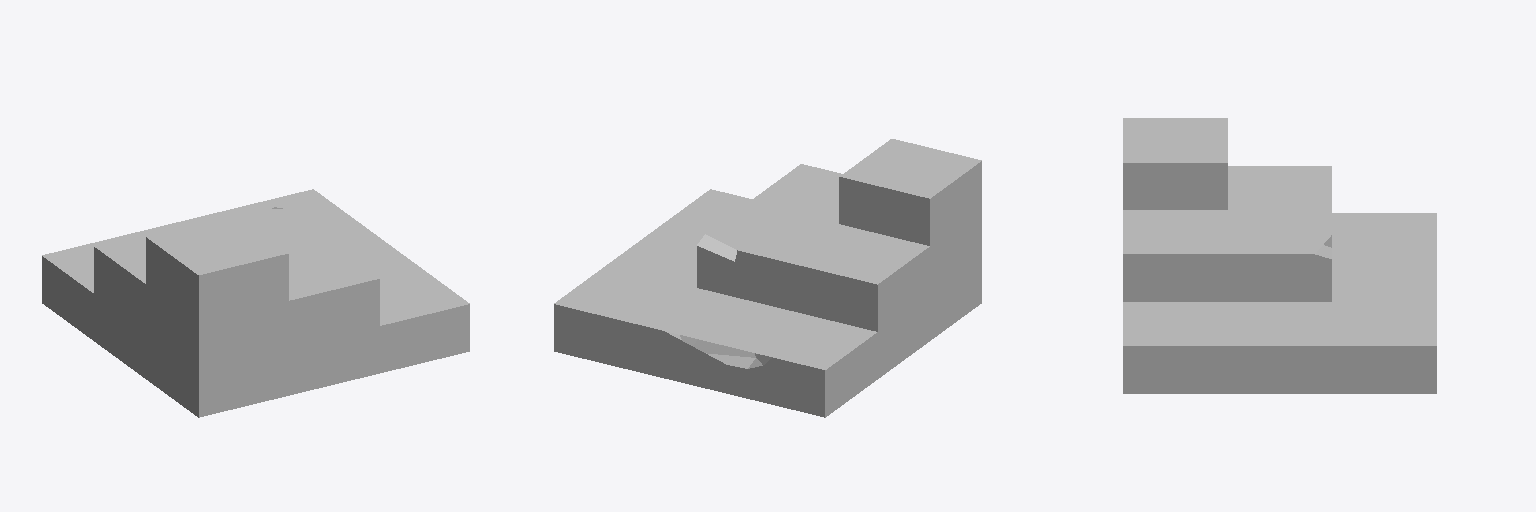
The model's file is step_corner1.obj.
The picture shows the model from 3 angles: view 1: azimuth 30°, elevation 25°; view 2: azimuth 150°, elevation 25°; view 3: azimuth 270°, elevation 25°; orthographic projection.
Parts seen in each view (by area): view 1: Cube; view 2: Cube; view 3: Cube.
Part boxes in pixels (x1,y1,x2,y2): Cube: (42,189,469,417); Cube: (554,139,981,417); Cube: (1123,118,1436,393).
Size of the model in its own units: 0.6 by 0.3 by 0.6.